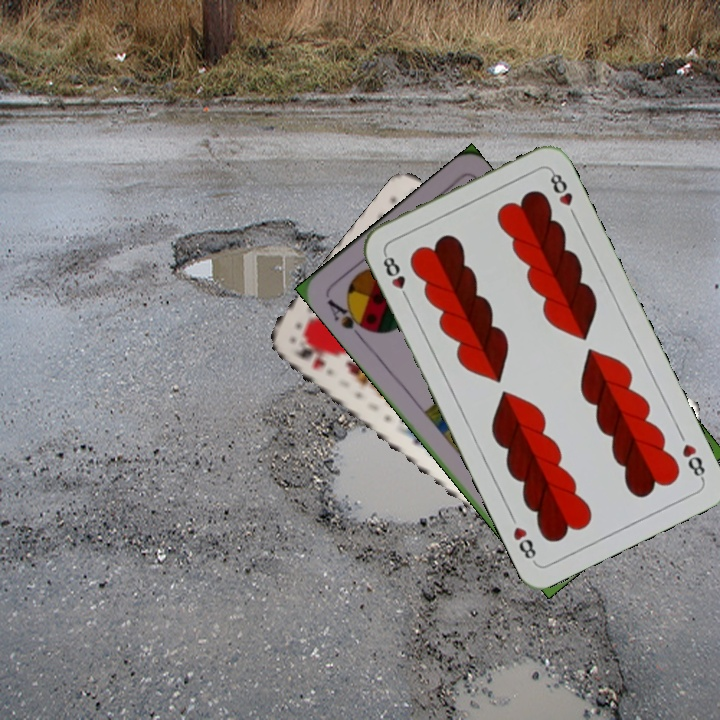H8: (379, 249, 412, 304), (678, 439, 708, 483)
HK: (291, 336, 329, 372)
SA: (323, 295, 374, 343)
